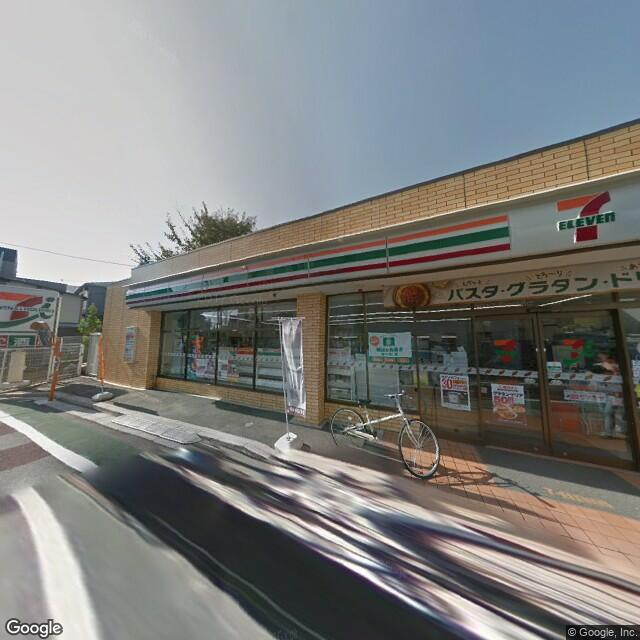7-eleven: (121, 175, 638, 315), (1, 282, 58, 341), (558, 334, 596, 370), (490, 333, 519, 372)
